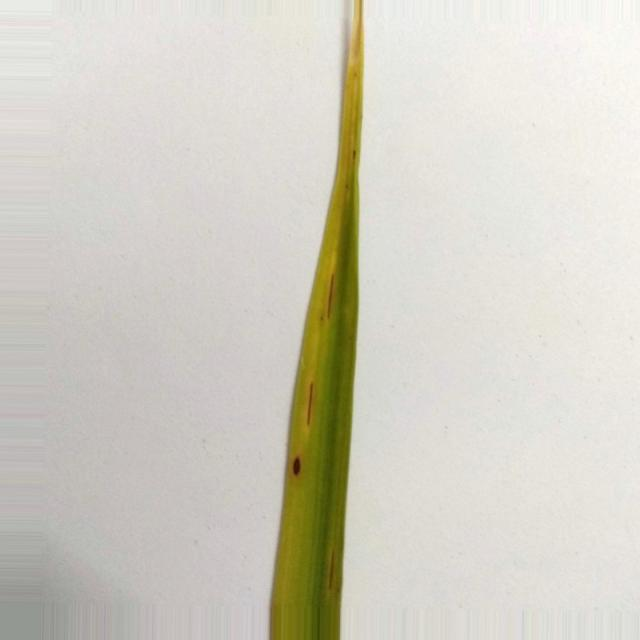Brown_Spot: (308, 382, 312, 424), (328, 275, 332, 317), (292, 458, 300, 475)
